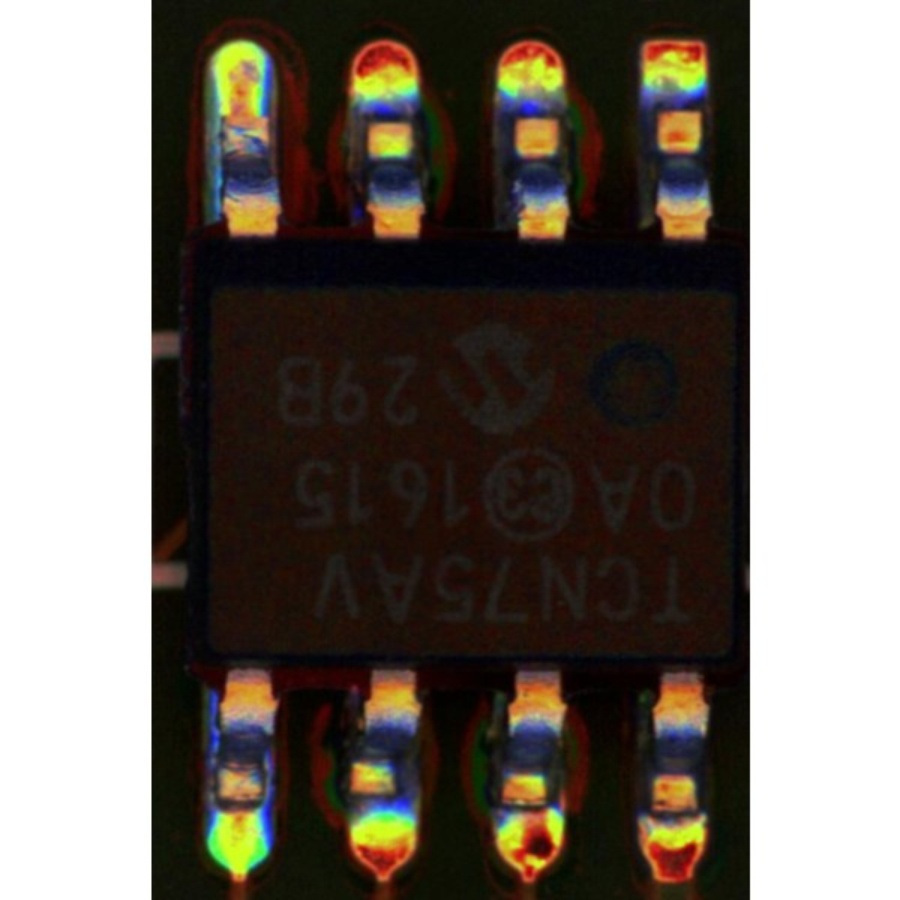Bad_podu: (228, 83, 257, 147), (225, 780, 258, 826)
Bad_qiaojiao: (515, 781, 546, 827)
